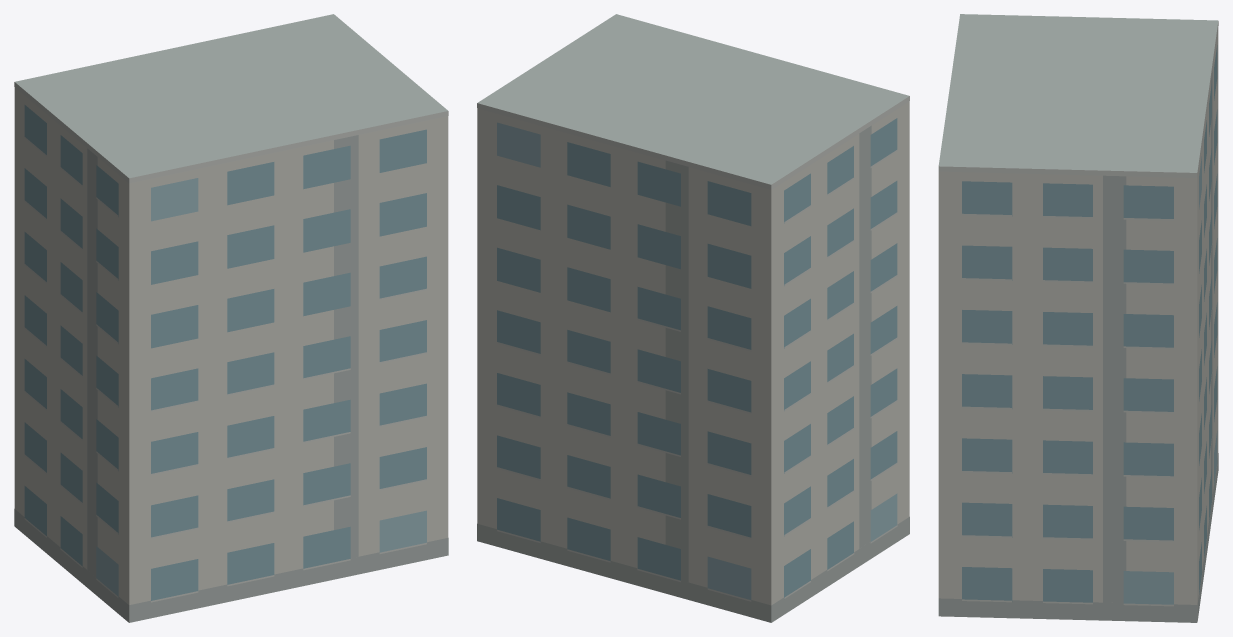
File: survey-upis-32588217.glb
3 views of the same model, side by side, from view 1: azimuth 30°, elevation 25°; view 2: azimuth 150°, elevation 25°; view 3: azimuth 270°, elevation 25° (orthographic). The views are drawn at different scales.
Parts seen in each view (by area): view 1: survey-upis-32588217.tmp; view 2: survey-upis-32588217.tmp; view 3: survey-upis-32588217.tmp.
Part boxes in pixels (x1=…): survey-upis-32588217.tmp: x1=14, y1=14, x2=448, y2=622; survey-upis-32588217.tmp: x1=477, y1=14, x2=909, y2=622; survey-upis-32588217.tmp: x1=938, y1=14, x2=1218, y2=622.
Bounding box in the file's own units: 16.19 × 21.35 × 12.05.
